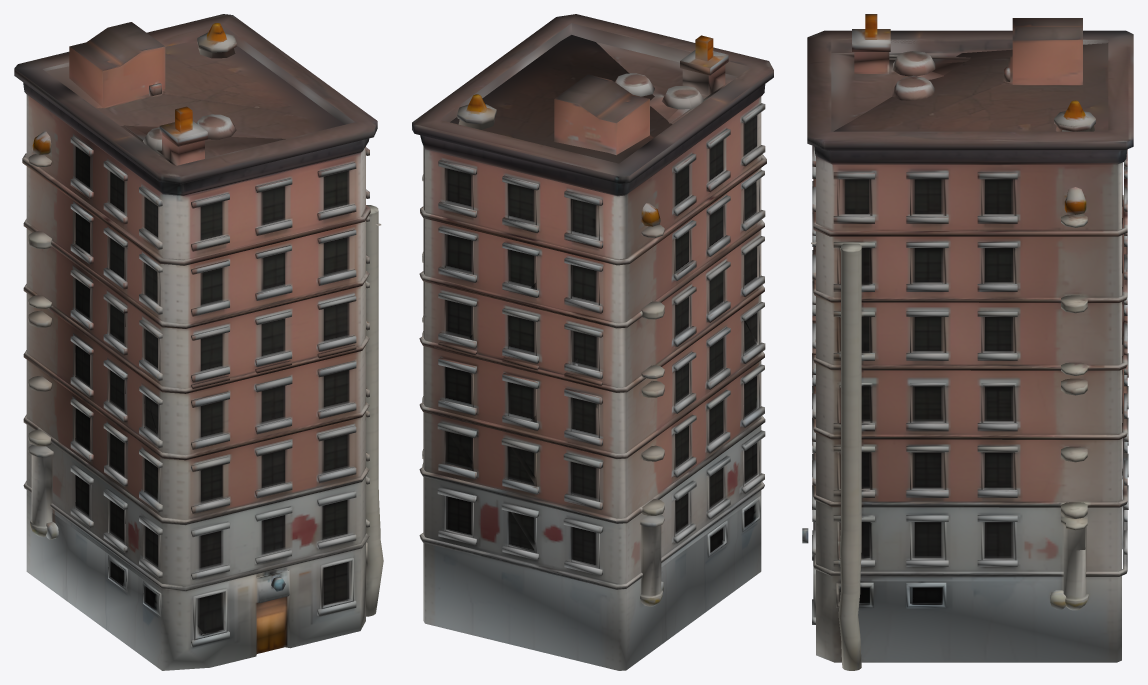
Rendered from Apartman.fbx.
The picture shows the model from 3 angles, left to right: view 1: azimuth 30°, elevation 25°; view 2: azimuth 150°, elevation 25°; view 3: azimuth 270°, elevation 25°; orthographic projection. The views are drawn at different scales.
Parts seen in each view (by area): view 1: texture_pbr_v128; view 2: texture_pbr_v128; view 3: texture_pbr_v128.
Boxes of the visible parts, x1,y1,x2,y2 form: texture_pbr_v128: (14, 14, 383, 670); texture_pbr_v128: (412, 14, 773, 670); texture_pbr_v128: (802, 14, 1133, 670).
Size of the model in its own units: 48.01 by 102 by 54.14.
Materials: 1 (1 with a texture image).
